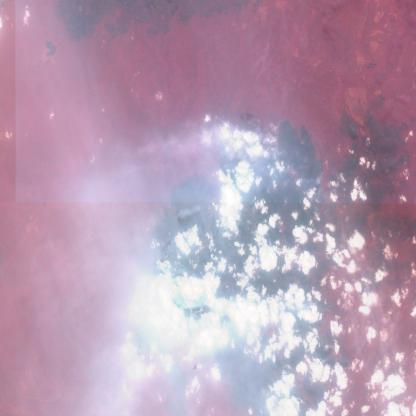fire: (272, 113, 294, 160), (311, 160, 329, 198)
